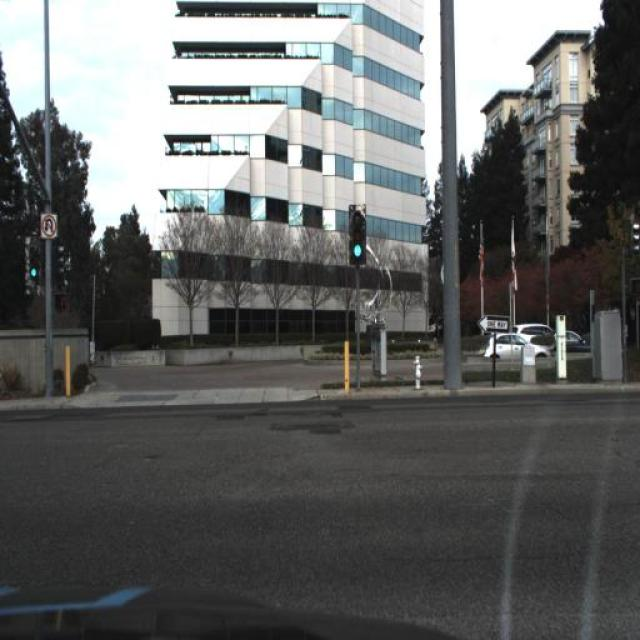car: (488, 334, 552, 364), (508, 322, 552, 358), (554, 323, 588, 358), (565, 328, 589, 358)
trafficLight-GreenLeft: (342, 208, 367, 283), (22, 252, 46, 298), (351, 202, 364, 264), (28, 254, 40, 284)
